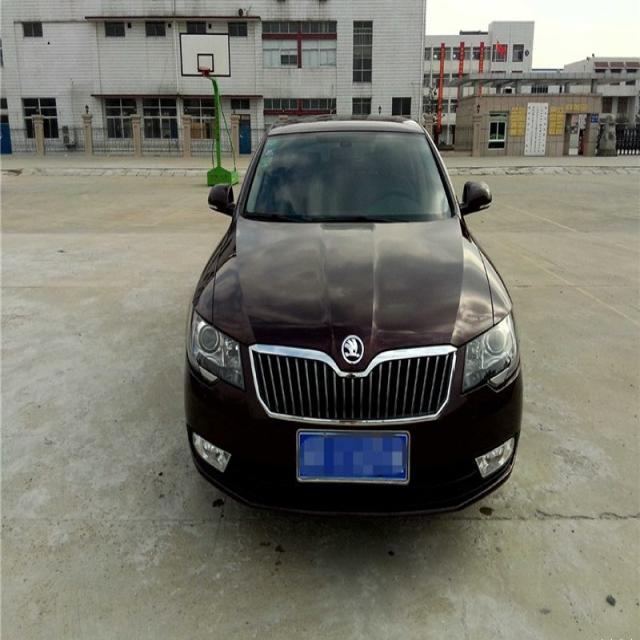front_bumper: (184, 352, 525, 524)
front_glass: (241, 126, 454, 219)
front_left_side_light: (458, 308, 518, 404)
front_left_side_mirror: (459, 176, 496, 222)
front_right_side_light: (188, 302, 249, 393)
front_right_side_mirror: (207, 180, 238, 222)
